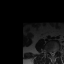CCS_normal: (52, 51, 53, 57)
LFS_severe_stenosis: (55, 49, 57, 53)
LLS_normal: (53, 50, 55, 56)
RFS_severe_stenosis: (48, 49, 50, 55)
RLS_normal: (50, 50, 51, 56)
